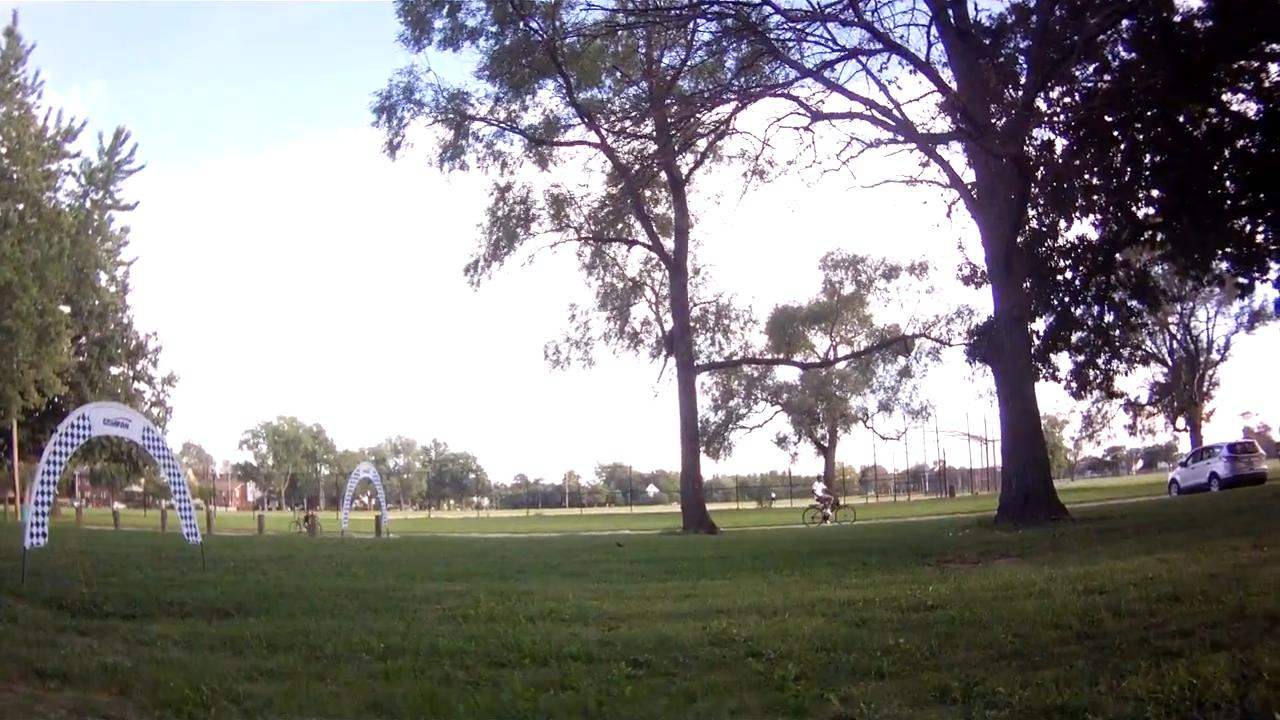gate: (27, 400, 200, 552)
